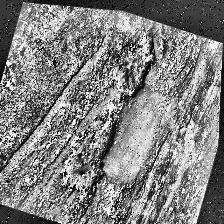pothole: (56, 100, 128, 206), (102, 12, 168, 108)
